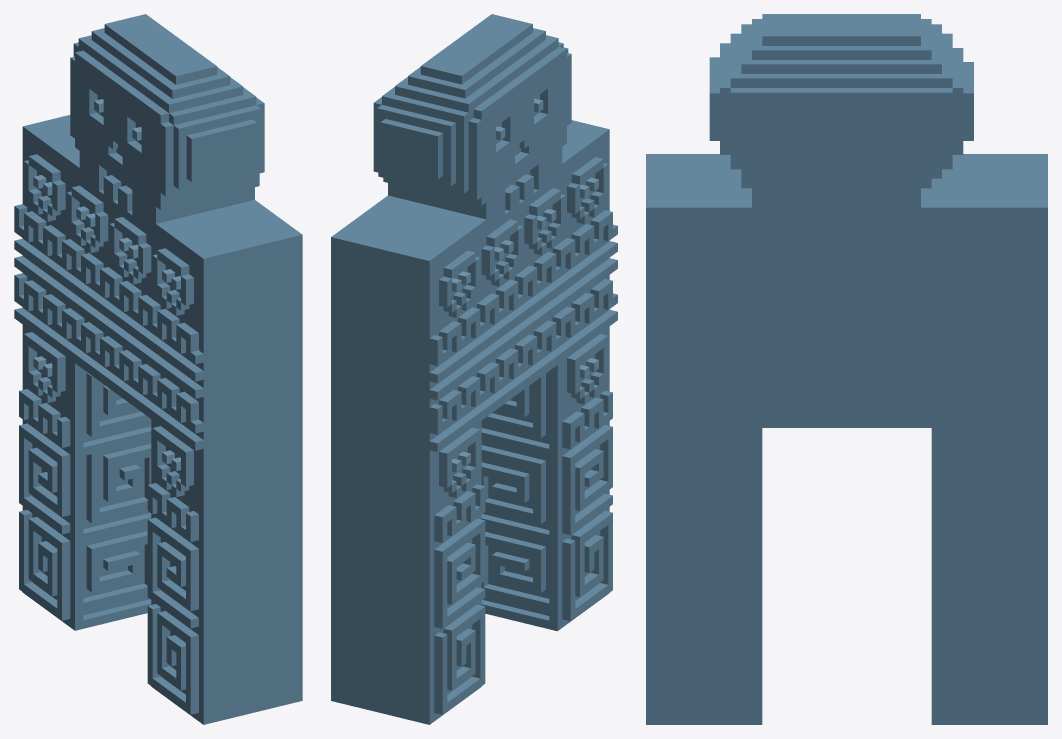
The model's file is portal.obj.
3 renders of one model, left to right at view 1: azimuth 30°, elevation 25°; view 2: azimuth 150°, elevation 25°; view 3: azimuth 270°, elevation 25°, orthographic. The views are drawn at different scales.
Bounding box in the file's own units: 1.3 × 7 × 3.8.
